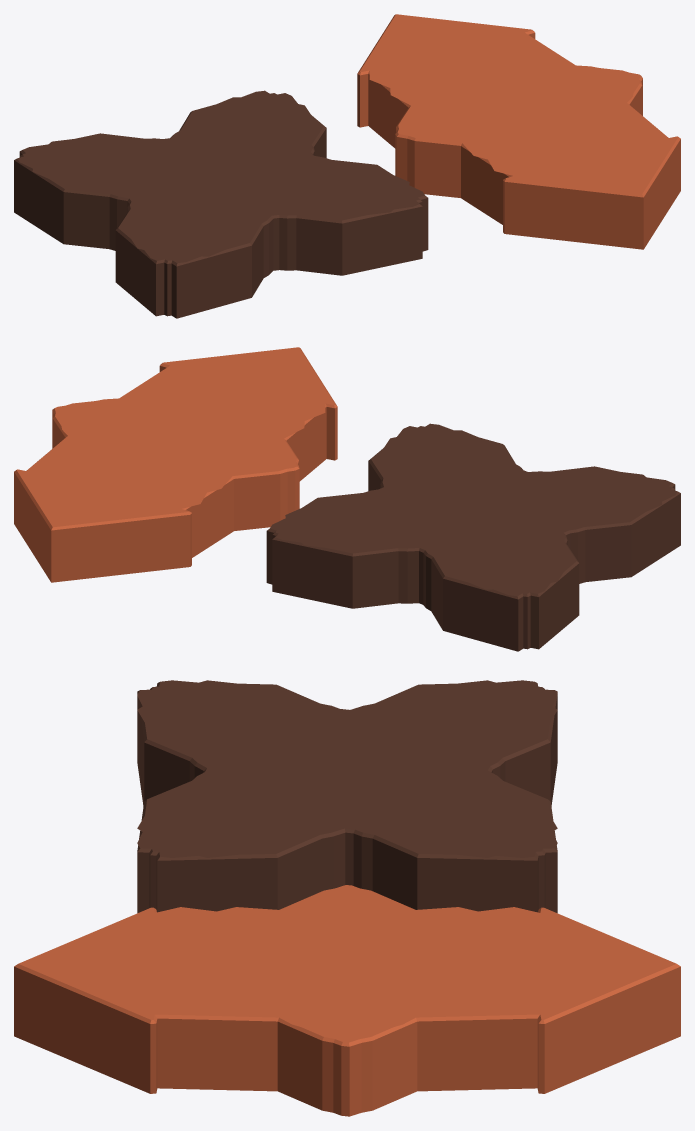
File: mahsulot.glb
3 views of the same model, one above another, from view 1: azimuth 30°, elevation 25°; view 2: azimuth 150°, elevation 25°; view 3: azimuth 270°, elevation 25° (orthographic). The views are drawn at different scales.
Parts seen in each view (by area): view 1: mahsulot_A, mahsulot_B; view 2: mahsulot_A, mahsulot_B; view 3: mahsulot_B, mahsulot_A.
Part boxes in pixels (left/top/right/bottom): mahsulot_A: left=14, top=90, right=428, bottom=318; mahsulot_B: left=357, top=14, right=680, bottom=249; mahsulot_A: left=266, top=423, right=680, bottom=651; mahsulot_B: left=14, top=347, right=337, bottom=582; mahsulot_B: left=14, top=885, right=680, bottom=1116; mahsulot_A: left=137, top=680, right=557, bottom=913.
Bounding box in the file's own units: 0.4296 × 0.04 × 0.333.
